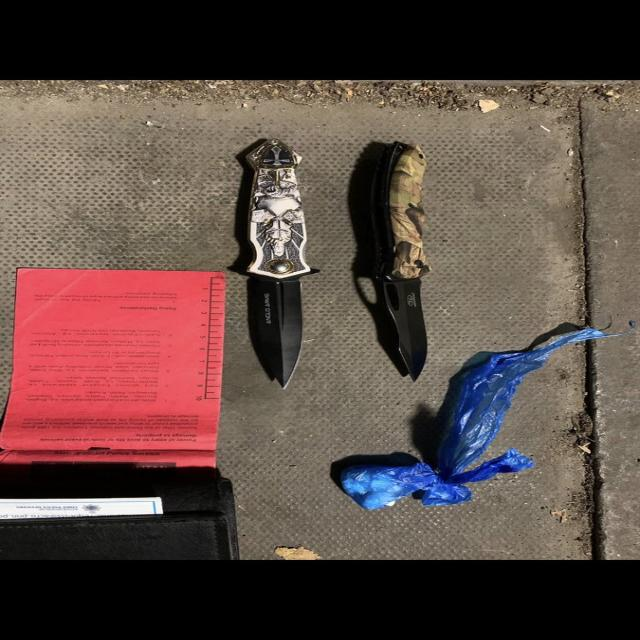Sharp-Object: (238, 137, 326, 387), (373, 145, 441, 379)
